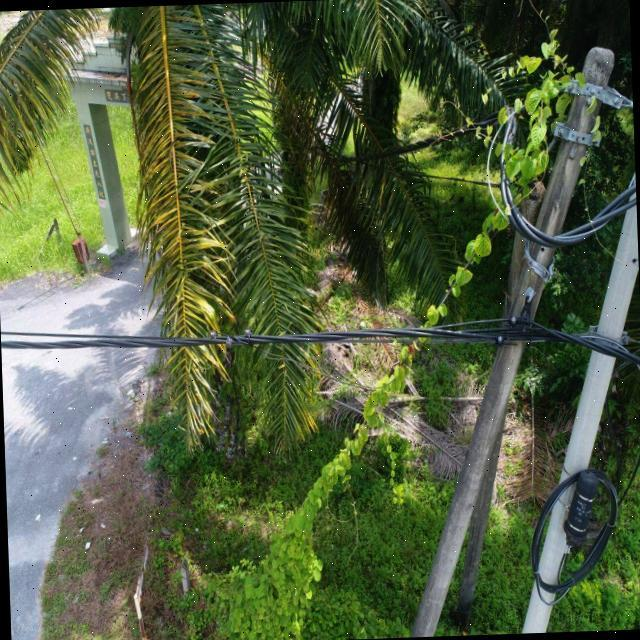critical vegetation: (195, 22, 624, 640)
